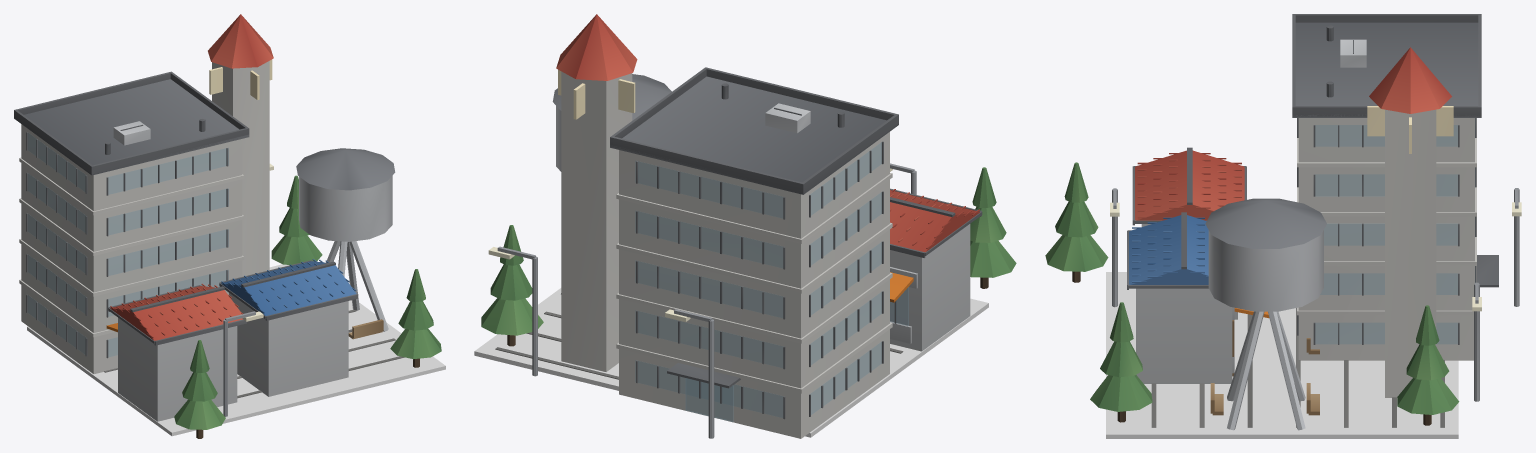
Rendered from Civic_P3.fbx.
The picture shows the model from 3 angles, left to right: view 1: azimuth 30°, elevation 25°; view 2: azimuth 150°, elevation 25°; view 3: azimuth 270°, elevation 25°; orthographic projection. The views are drawn at different scales.
Visible parts, largest first — view 1: Civic.Hall, Civic.Shop1, Civic.Shop0, Civic.WaterTower, Civic.Tower, Civic.Plaza, Civic.Tree2, Civic.Tree1, Civic.Tree0, Civic.Lamp0, Civic.Paving, Civic.Benches; view 2: Civic.Hall, Civic.Tower, Civic.Shop0, Civic.Plaza, Civic.Tree0, Civic.Tree2, Civic.WaterTower, Civic.Lamp2, Civic.Lamp1, Civic.Paving; view 3: Civic.Hall, Civic.Plaza, Civic.Tower, Civic.WaterTower, Civic.Shop1, Civic.Shop0, Civic.Tree2, Civic.Tree0, Civic.Tree1, Civic.Paving, Civic.Benches, Civic.Lamp1 (+2 smaller).
Part boxes in pixels (left/top/right/bottom): Civic.Hall: left=14, top=71, right=249, bottom=373; Civic.Shop1: left=219, top=259, right=358, bottom=396; Civic.Shop0: left=106, top=283, right=246, bottom=421; Civic.WaterTower: left=296, top=148, right=395, bottom=331; Civic.Tower: left=208, top=14, right=273, bottom=276; Civic.Plaza: left=27, top=264, right=445, bottom=436; Civic.Tree2: left=174, top=340, right=225, bottom=438; Civic.Tree1: left=390, top=269, right=441, bottom=367; Civic.Tree0: left=271, top=175, right=322, bottom=264; Civic.Lamp0: left=223, top=311, right=263, bottom=416; Civic.Paving: left=104, top=309, right=404, bottom=398; Civic.Benches: left=348, top=319, right=383, bottom=339; Civic.Hall: left=610, top=67, right=898, bottom=438; Civic.Tower: left=556, top=14, right=637, bottom=371; Civic.Shop0: left=890, top=188, right=982, bottom=351; Civic.Plaza: left=474, top=288, right=988, bottom=437; Civic.Tree0: left=481, top=225, right=543, bottom=346; Civic.Tree2: left=970, top=167, right=1016, bottom=288; Civic.WaterTower: left=552, top=74, right=671, bottom=294; Civic.Lamp2: left=665, top=309, right=714, bottom=438; Civic.Lamp1: left=488, top=246, right=537, bottom=376; Civic.Paving: left=495, top=311, right=903, bottom=379; Civic.Hall: left=1292, top=14, right=1498, bottom=360; Civic.Plaza: left=1106, top=272, right=1458, bottom=438; Civic.Tower: left=1367, top=47, right=1453, bottom=397; Civic.WaterTower: left=1205, top=198, right=1326, bottom=430; Civic.Shop1: left=1127, top=212, right=1269, bottom=383; Civic.Shop0: left=1132, top=147, right=1246, bottom=319; Civic.Tree2: left=1045, top=162, right=1108, bottom=282; Civic.Tree0: left=1397, top=305, right=1459, bottom=425; Civic.Tree1: left=1090, top=302, right=1152, bottom=422; Civic.Paving: left=1151, top=308, right=1444, bottom=427; Civic.Benches: left=1210, top=338, right=1319, bottom=415; Civic.Lamp1: left=1472, top=282, right=1481, bottom=401.
Size of the model in its own units: 2532 by 2371 by 2970.
